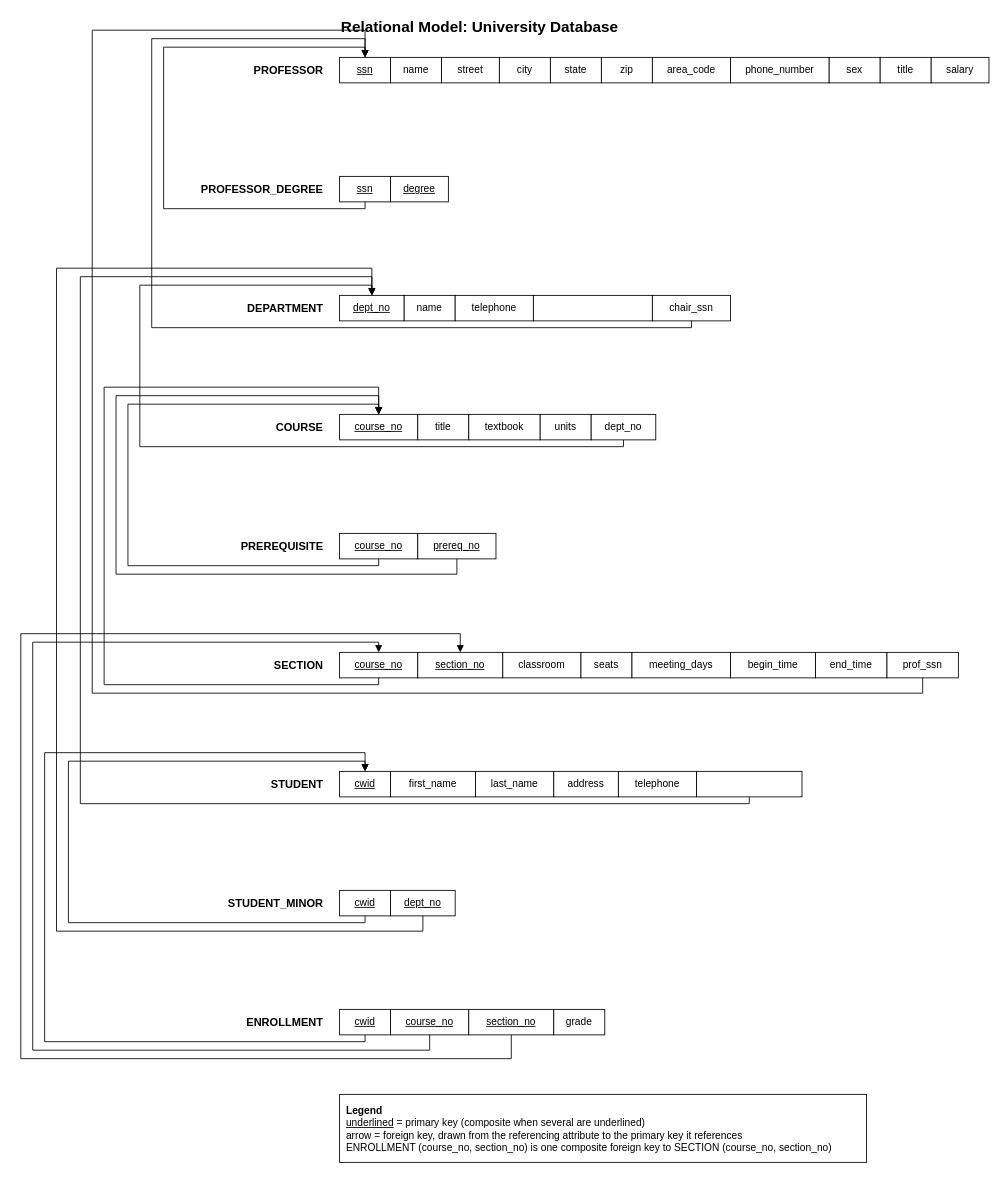
Some shapes in this 1004 by 1177 pixel diagram are drawn without their labels. The box of each missing label's shape, as (x1, y1, x2, y2) in pixels:
major_dept_no: (696, 771, 802, 797)
office_location: (533, 295, 652, 321)
